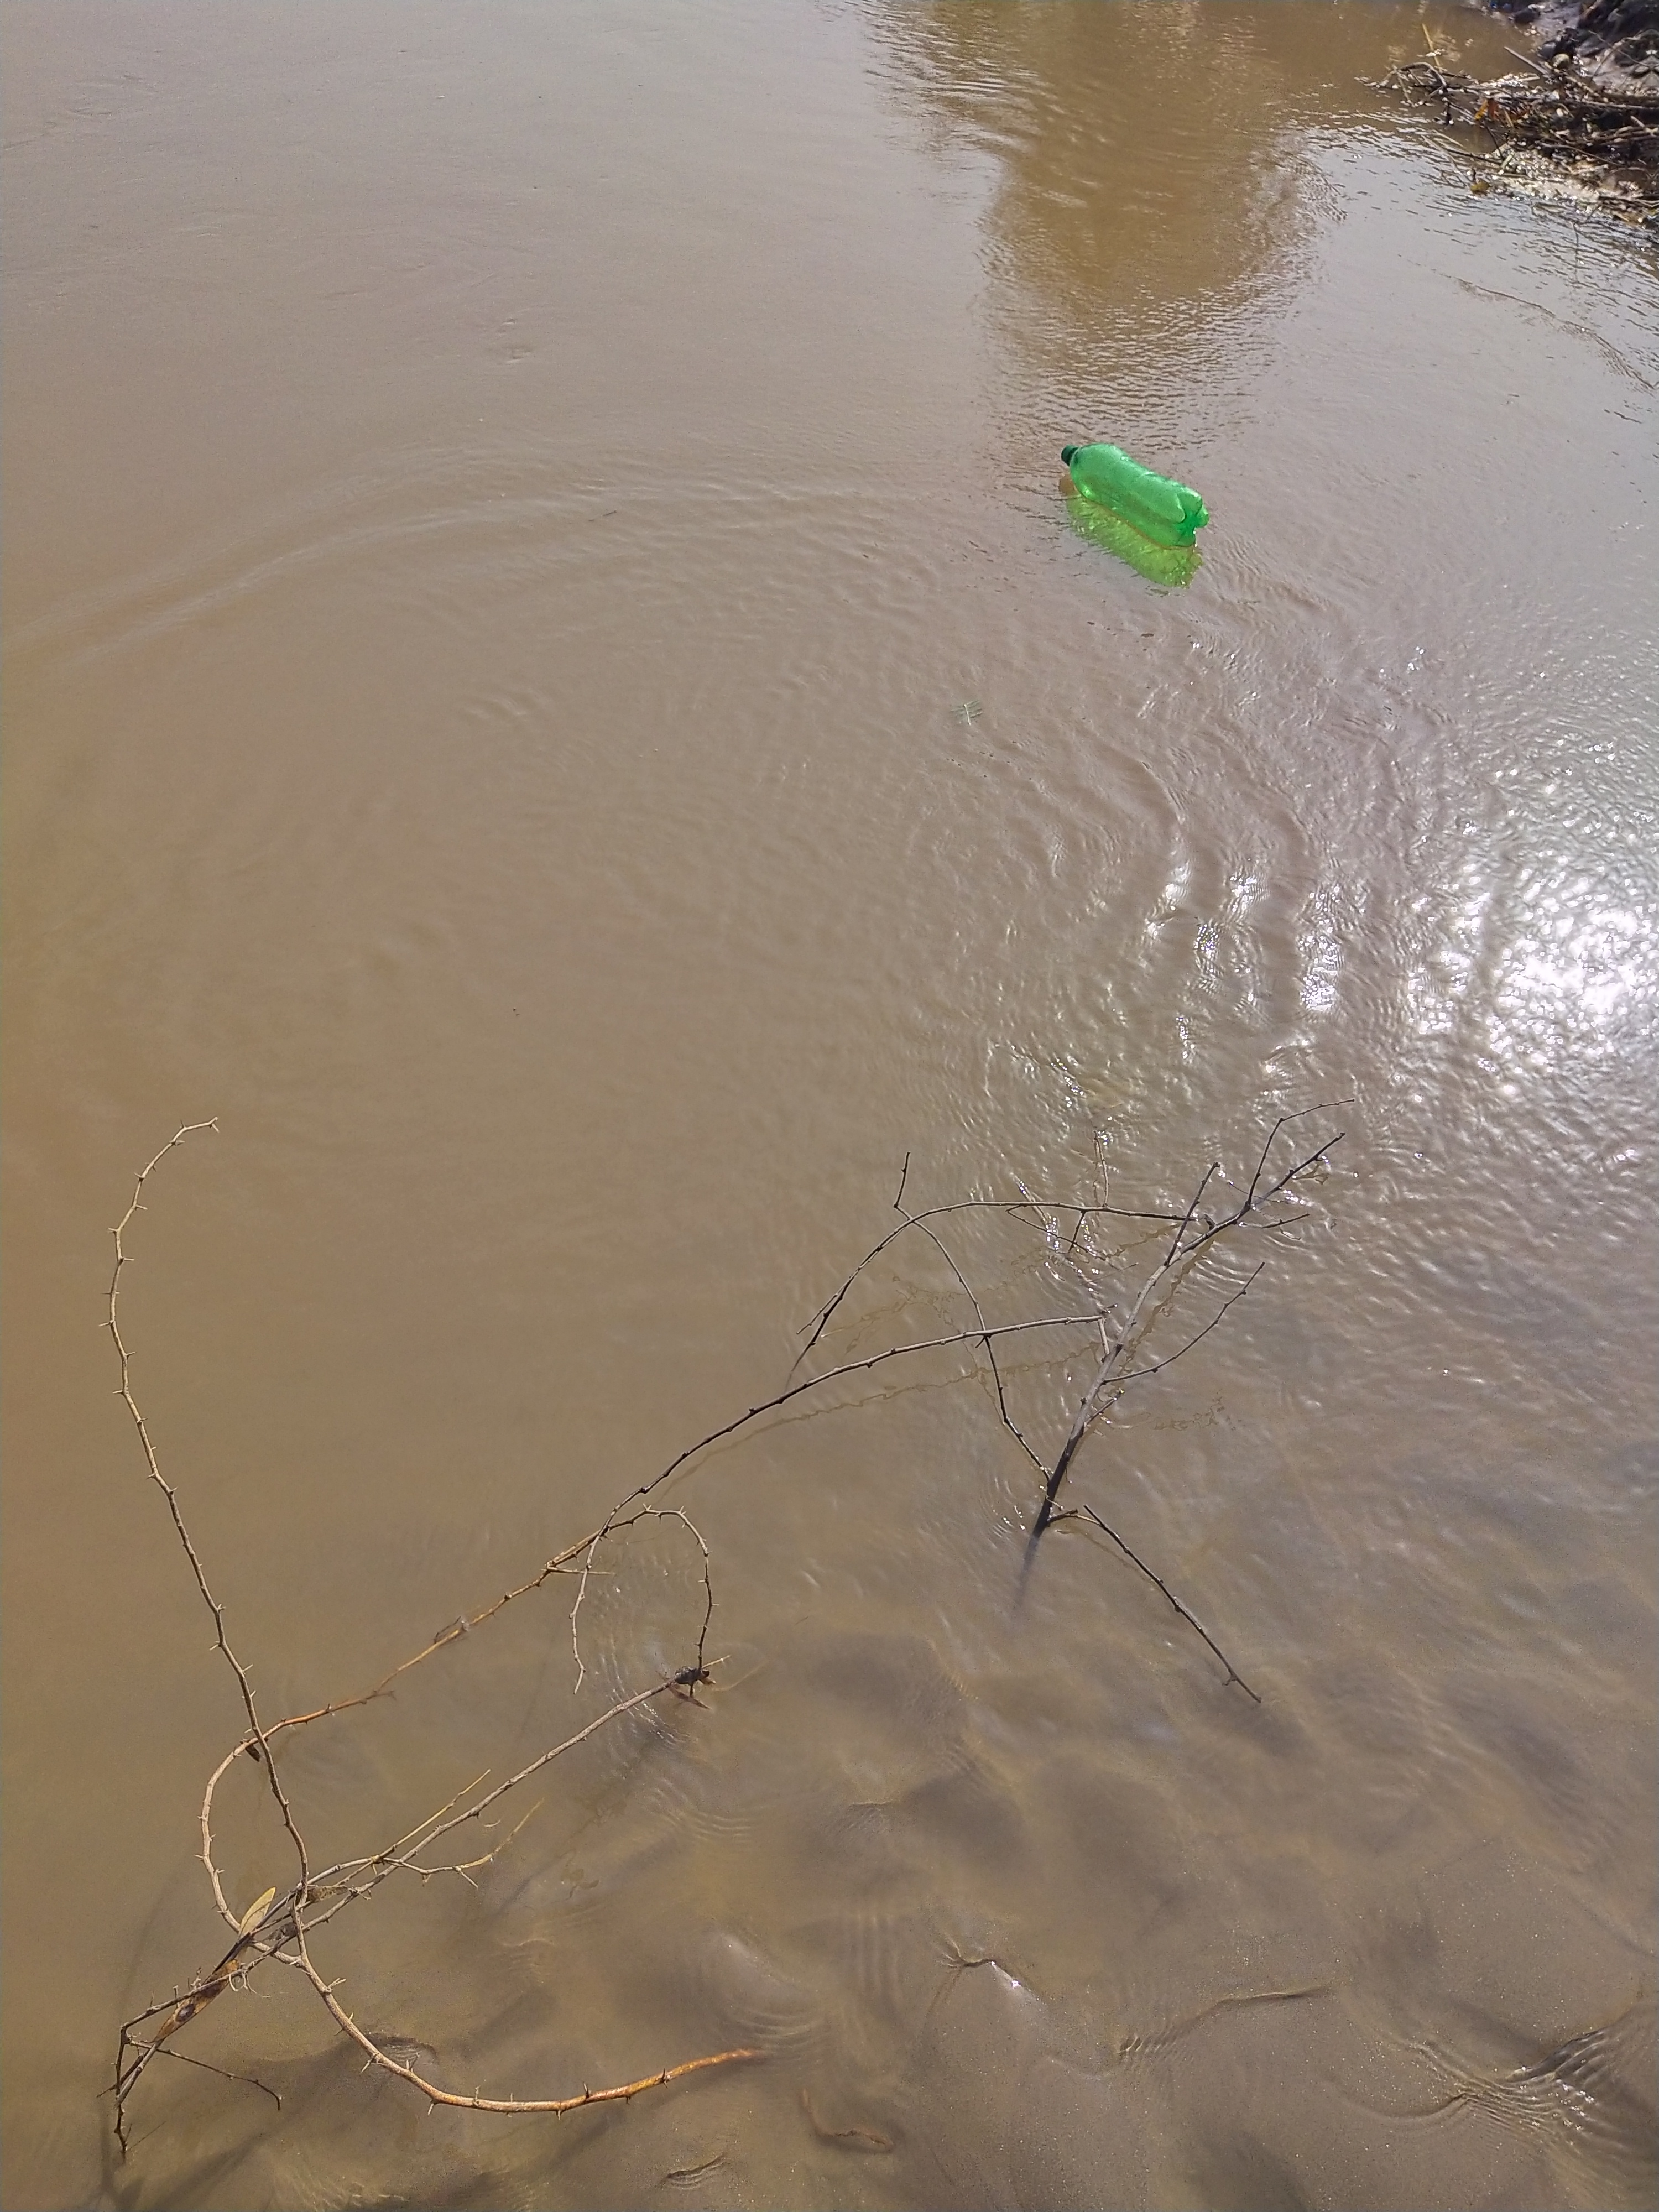Plastic Bottle: (1061, 442, 1209, 547)
